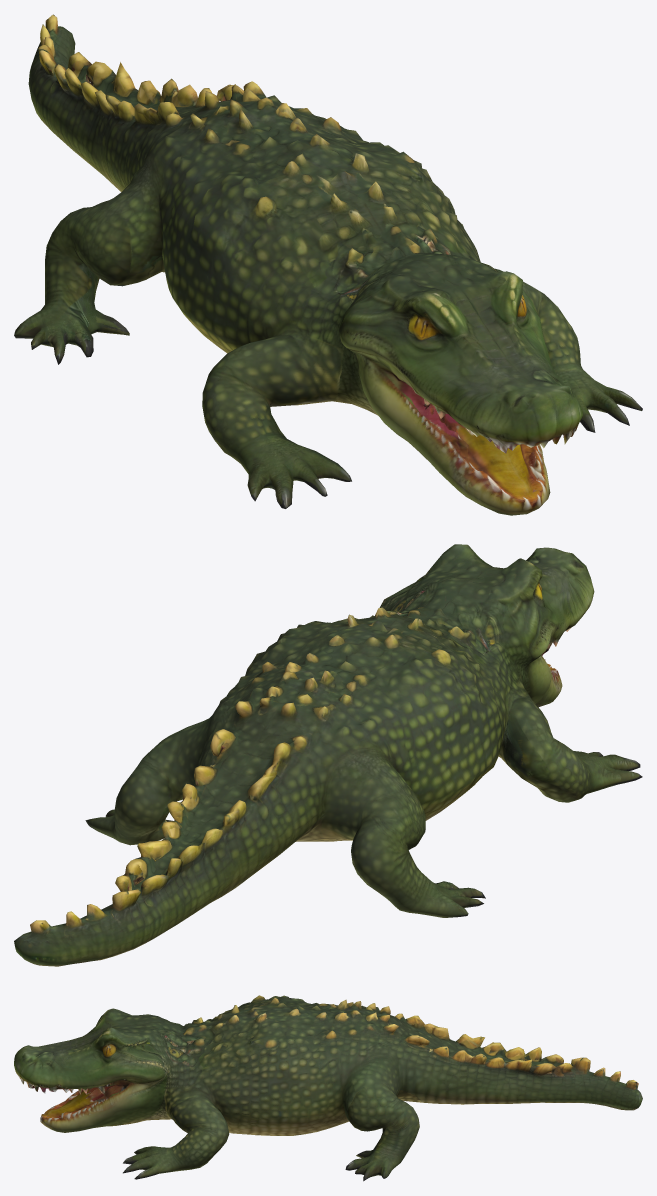
File: Crocodile.fbx
3 renders of one model, top to bottom at view 1: azimuth 30°, elevation 25°; view 2: azimuth 150°, elevation 25°; view 3: azimuth 270°, elevation 25°, orthographic. The views are drawn at different scales.
Parts seen in each view (by area): view 1: Mesh_0.003; view 2: Mesh_0.003; view 3: Mesh_0.003.
Part boxes in pixels (left/top/right/bottom): Mesh_0.003: left=14, top=14, right=642, bottom=515; Mesh_0.003: left=14, top=544, right=642, bottom=966; Mesh_0.003: left=14, top=995, right=642, bottom=1181.
Bounding box in the file's own units: 88.86 × 43.14 × 200.
1 material, 1 textured.
